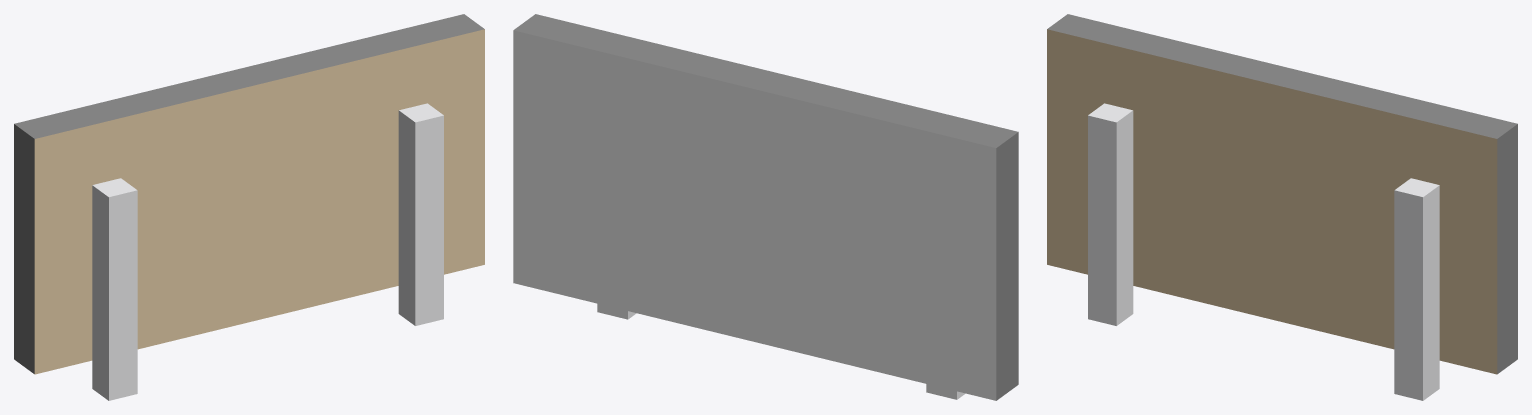
The model's file is billboardLower.gltf.
3 views of the same model, side by side, from view 1: azimuth 30°, elevation 25°; view 2: azimuth 150°, elevation 25°; view 3: azimuth 330°, elevation 25° (orthographic). The views are drawn at different scales.
Visible parts, largest first — view 1: billboardLower; view 2: billboardLower; view 3: billboardLower.
Part boxes in pixels (x1=…): billboardLower: x1=14, y1=14, x2=484, y2=400; billboardLower: x1=513, y1=14, x2=1018, y2=400; billboardLower: x1=1047, y1=14, x2=1517, y2=400.
Size of the model in its own units: 5 by 2.8 by 0.719.
